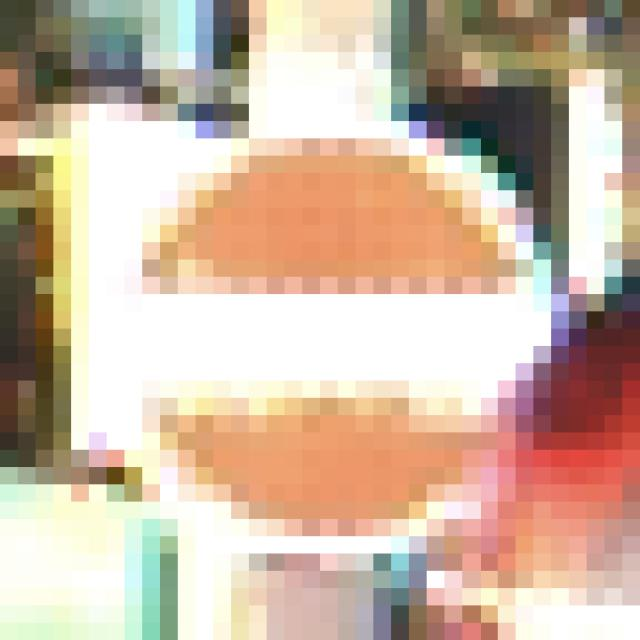No Entry: (90, 105, 552, 554)
